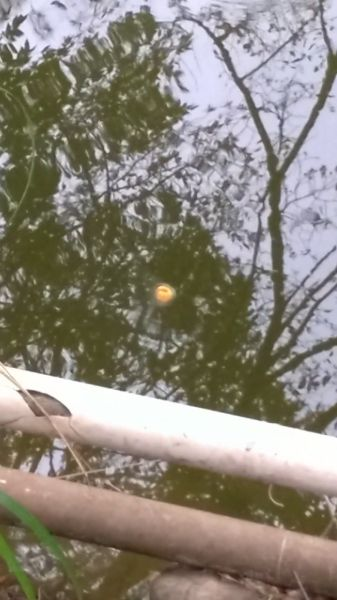eggs: (149, 281, 176, 304)
